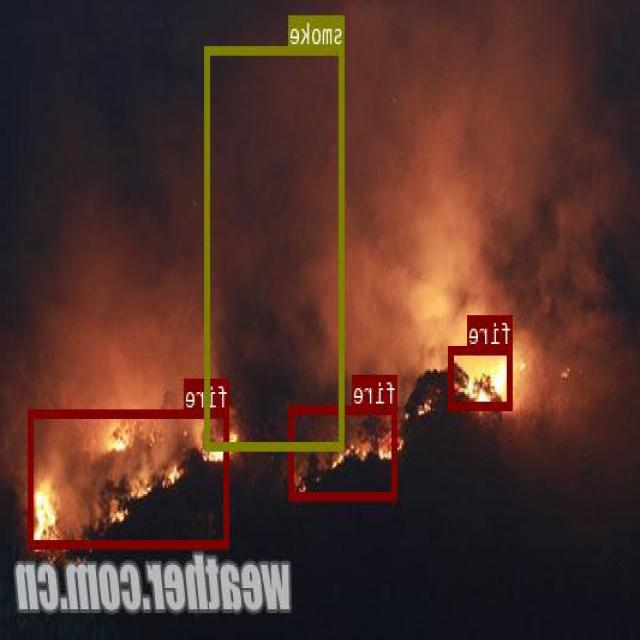fire: (30, 408, 230, 547), (290, 405, 398, 499), (450, 345, 513, 408)
smoke: (206, 44, 346, 448)
